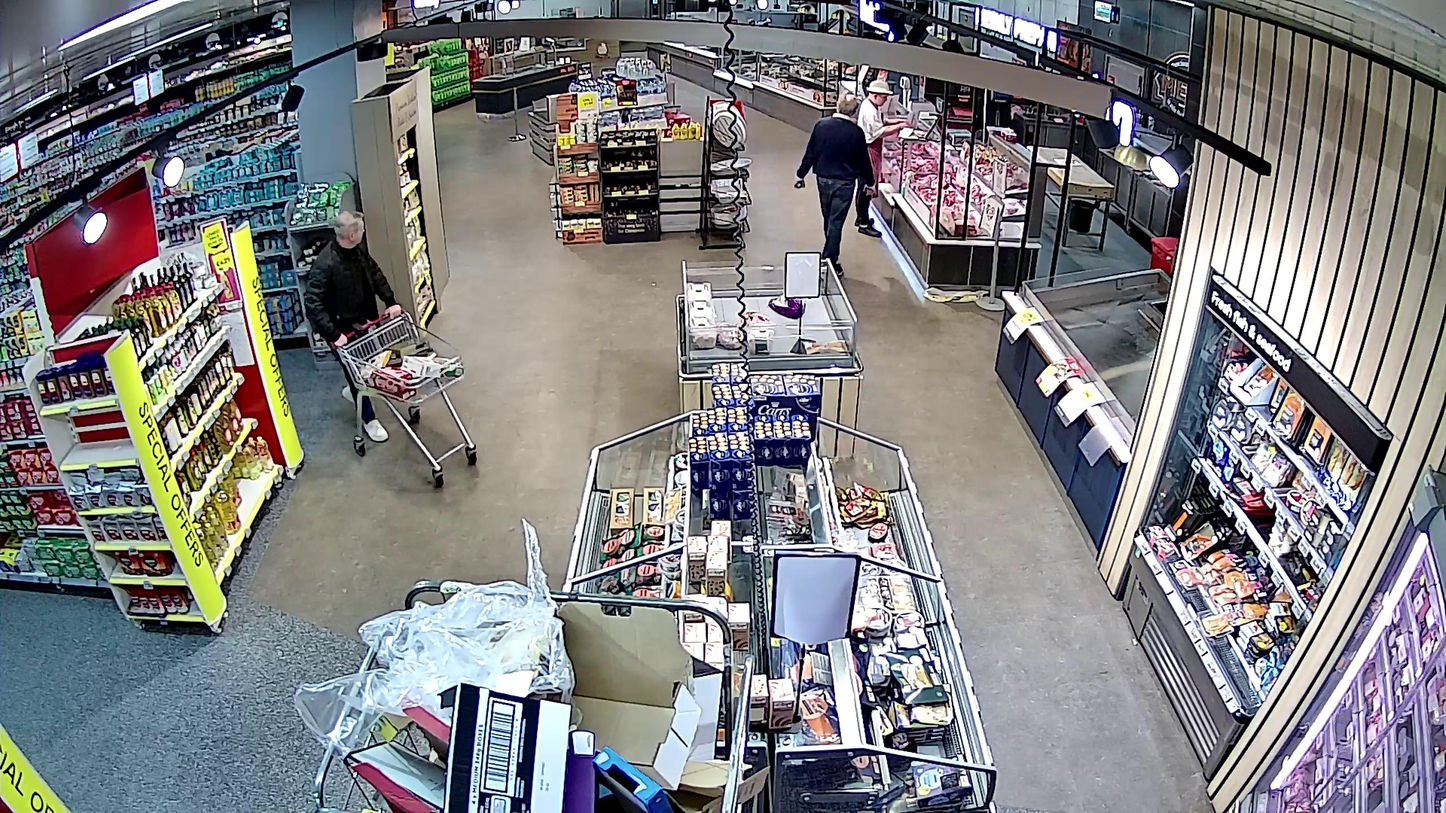filled-trolly: (334, 306, 477, 486)
person: (303, 212, 401, 443)
person-with-filled-basket-trolly: (305, 212, 478, 486)
